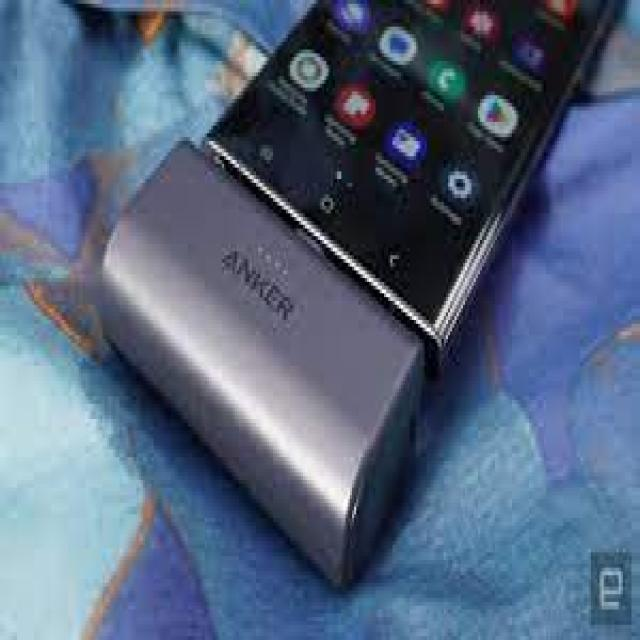power_bank: (94, 137, 437, 587)
